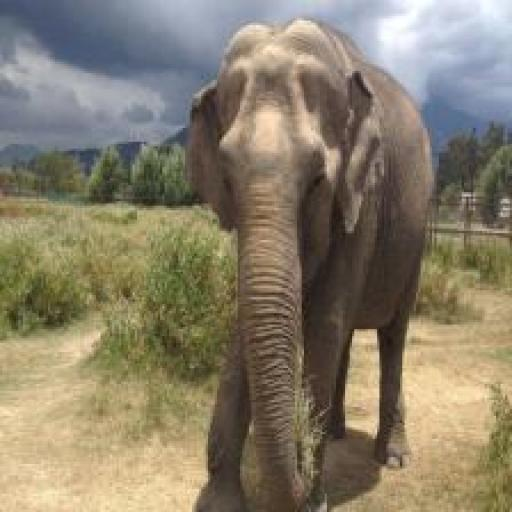Elephant: (165, 11, 442, 512)
